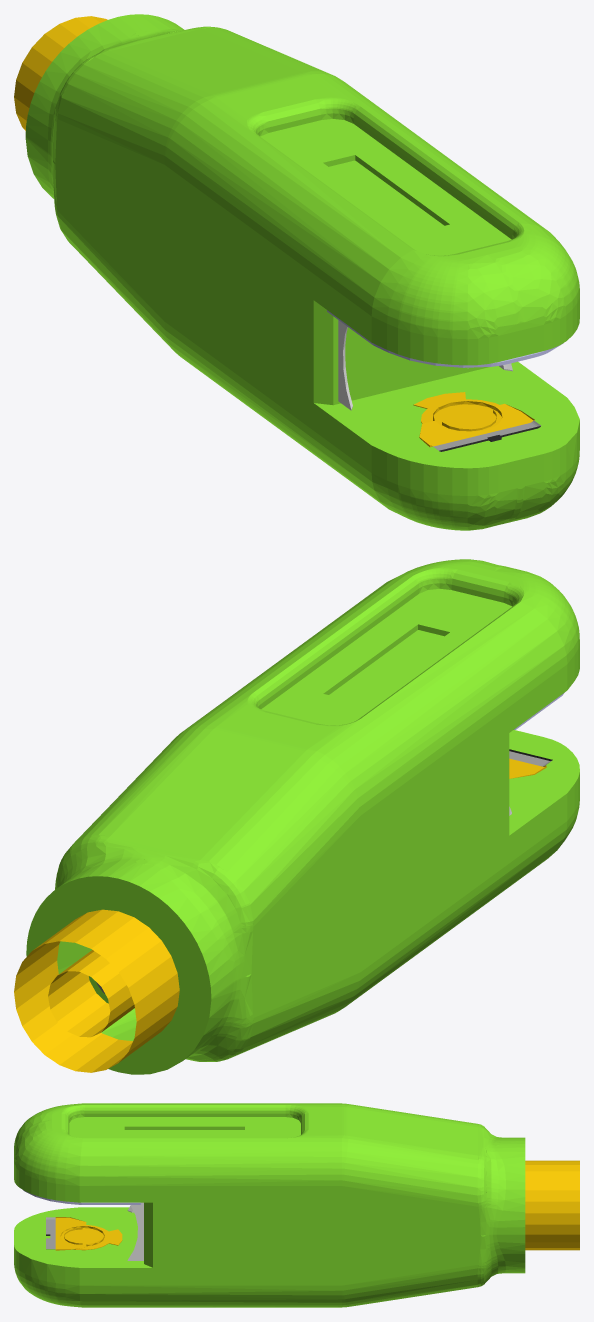
The picture shows the model from 3 angles, top to bottom: view 1: azimuth 30°, elevation 25°; view 2: azimuth 150°, elevation 25°; view 3: azimuth 270°, elevation 25°; orthographic projection. The views are drawn at different scales.
Parts seen in each view (by area): view 1: node; view 2: node; view 3: node.
Part boxes in pixels (x1,y1,x2,y2): node: (14,14,579,530); node: (14,559,579,1074); node: (14,1103,579,1307).
Bounding box in the file's own units: 188 × 244 × 742.
